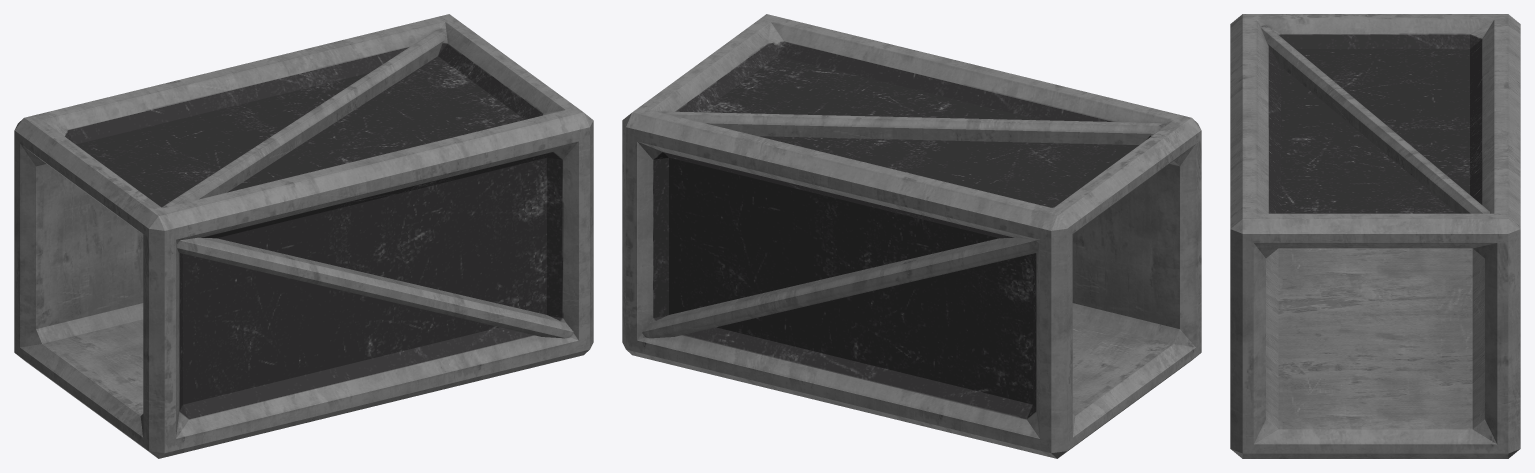
Rendered from empty lagre box.fbx.
3 views of the same model, side by side, from view 1: azimuth 30°, elevation 25°; view 2: azimuth 150°, elevation 25°; view 3: azimuth 270°, elevation 25° (orthographic).
Visible parts, largest first — view 1: large empty box; view 2: large empty box; view 3: large empty box.
Part boxes in pixels (<box>): large empty box: <box>14,14,593,458</box>; large empty box: <box>622,14,1201,458</box>; large empty box: <box>1230,14,1520,458</box>.
Size of the model in its own units: 2075 by 1083 by 1187.
